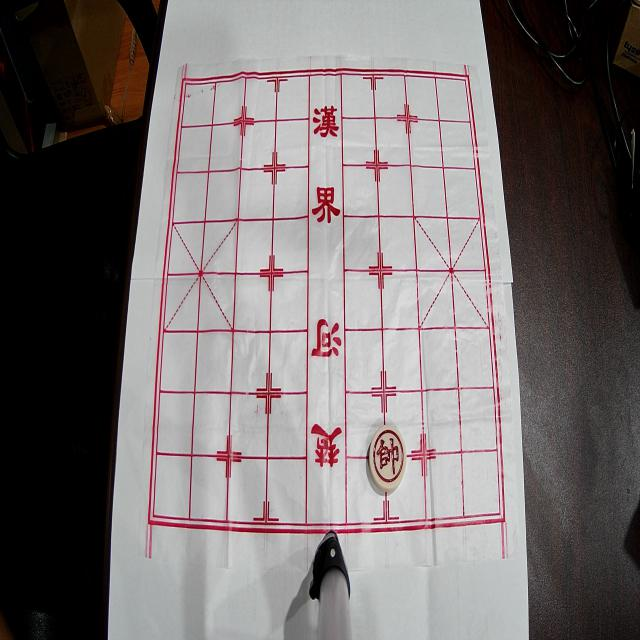red-general: (369, 425, 406, 492)
